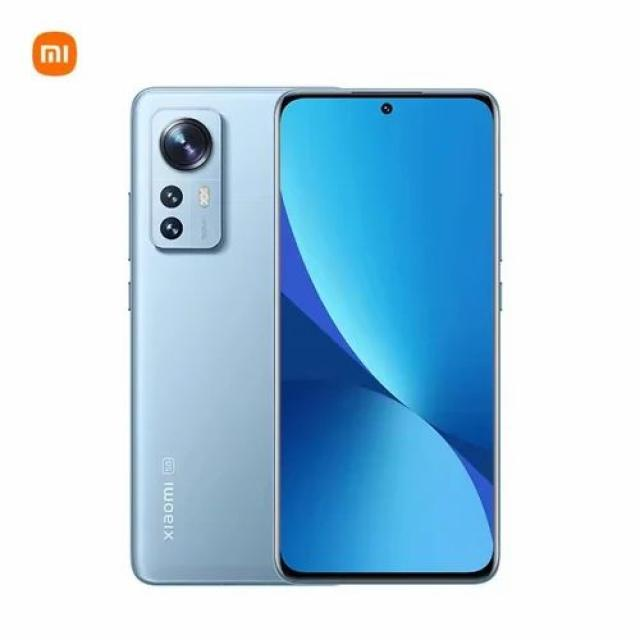mobile_phone: (270, 83, 503, 587), (113, 68, 298, 602)
